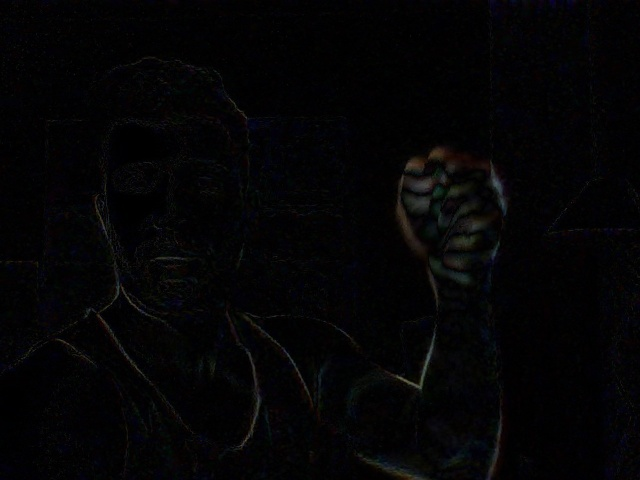hand_fi: (393, 135, 515, 277)
